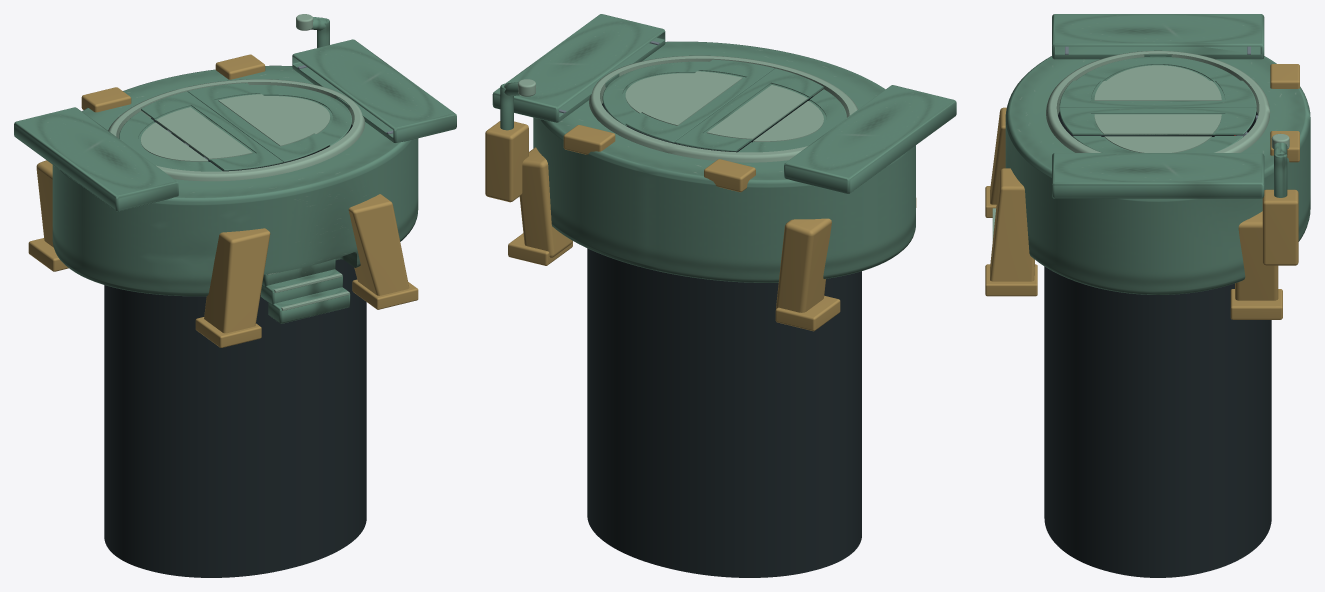
File: descriptor-02.glb
3 renders of one model, left to right at view 1: azimuth 30°, elevation 25°; view 2: azimuth 150°, elevation 25°; view 3: azimuth 270°, elevation 25°, orthographic. The views are drawn at different scales.
Visible parts, largest first — view 1: RI10 shaft wall below ground, RI10 fixed oval body, RI10 enclosed side cover cassette, RI10 enclosed side cover cassette.001, RI10 front splayed brass buttress, RI10 front splayed brass buttress.001, RI10 green aperture coaming, RI10 left cover shell inner segment, RI10 right cover shell inner segment, RI10 recessed green cover field inner segment, RI10 recessed green cover field inner segment.001, RI10 right cover shell outer segment (+12 smaller); view 2: RI10 shaft wall below ground, RI10 fixed oval body, RI10 enclosed side cover cassette, RI10 enclosed side cover cassette.001, RI10 green aperture coaming, RI10 rear brass load-bearing buttress, RI10 rear brass load-bearing buttress.001, RI10 left cover shell inner segment, RI10 right equipment mast foundation, RI10 right cover shell inner segment, RI10 recessed green cover field inner segment, RI10 recessed green cover field inner segment.001 (+8 smaller); view 3: RI10 shaft wall below ground, RI10 fixed oval body, RI10 enclosed side cover cassette.001, RI10 enclosed side cover cassette, RI10 front splayed brass buttress.001, RI10 green aperture coaming, RI10 right cover shell inner segment, RI10 left cover shell inner segment, RI10 right equipment mast foundation, RI10 recessed green cover field inner segment.001, RI10 rear brass load-bearing buttress.001, RI10 recessed green cover field inner segment (+10 smaller).
Part boxes in pixels (x1,y1,x2,y2): RI10 shaft wall below ground: [104, 118, 366, 577]; RI10 fixed oval body: [52, 65, 418, 296]; RI10 enclosed side cover cassette: [14, 107, 178, 211]; RI10 enclosed side cover cassette.001: [292, 39, 456, 142]; RI10 front splayed brass buttress: [204, 228, 270, 333]; RI10 front splayed brass buttress.001: [348, 194, 409, 295]; RI10 green aperture coaming: [108, 79, 365, 181]; RI10 left cover shell inner segment: [141, 91, 283, 170]; RI10 right cover shell inner segment: [187, 83, 329, 162]; RI10 recessed green cover field inner segment: [156, 107, 252, 159]; RI10 recessed green cover field inner segment.001: [218, 94, 314, 146]; RI10 right cover shell outer segment: [250, 85, 351, 146]; RI10 shaft wall below ground: [587, 96, 861, 577]; RI10 fixed oval body: [533, 41, 915, 282]; RI10 enclosed side cover cassette: [784, 85, 956, 193]; RI10 enclosed side cover cassette.001: [492, 14, 665, 122]; RI10 green aperture coaming: [589, 55, 857, 162]; RI10 rear brass load-bearing buttress: [776, 218, 831, 312]; RI10 rear brass load-bearing buttress.001: [519, 147, 572, 257]; RI10 left cover shell inner segment: [674, 68, 823, 151]; RI10 right equipment mast foundation: [485, 121, 528, 202]; RI10 right cover shell inner segment: [625, 59, 774, 142]; RI10 recessed green cover field inner segment: [706, 85, 807, 139]; RI10 recessed green cover field inner segment.001: [641, 71, 742, 125]; RI10 shaft wall below ground: [1044, 112, 1271, 577]; RI10 fixed oval body: [1005, 56, 1310, 294]; RI10 enclosed side cover cassette.001: [1052, 153, 1264, 198]; RI10 enclosed side cover cassette: [1052, 14, 1264, 59]; RI10 front splayed brass buttress.001: [990, 168, 1034, 281]; RI10 green aperture coaming: [1046, 50, 1270, 152]; RI10 right cover shell inner segment: [1059, 107, 1256, 135]; RI10 left cover shell inner segment: [1059, 80, 1256, 107]; RI10 right equipment mast foundation: [1262, 189, 1298, 265]; RI10 recessed green cover field inner segment.001: [1094, 114, 1221, 134]; RI10 rear brass load-bearing buttress.001: [1235, 211, 1278, 300]; RI10 recessed green cover field inner segment: [1094, 81, 1221, 100].
Size of the model in its own units: 2.7 by 3.31 by 2.17.
7 materials, 2 textured.
